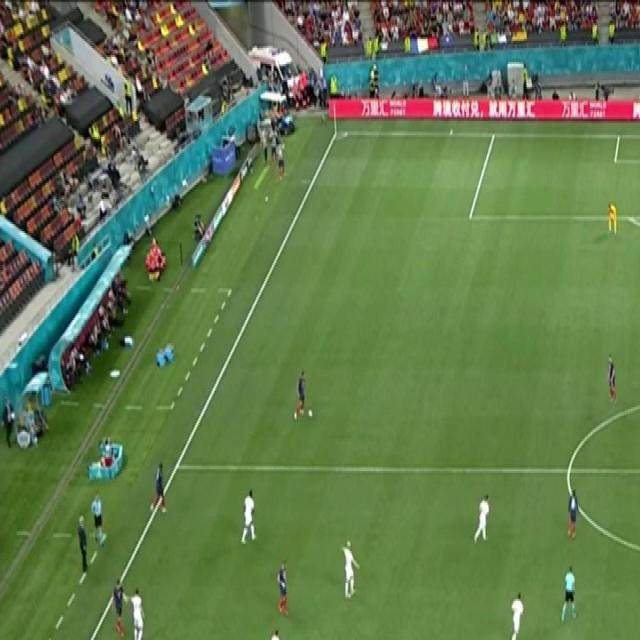ball: (308, 406, 314, 420), (264, 195, 270, 203)
player-white: (339, 538, 361, 600), (559, 564, 580, 624), (107, 576, 126, 640), (148, 458, 168, 518), (126, 585, 146, 640), (472, 490, 492, 544), (240, 487, 258, 547), (90, 490, 108, 548), (276, 557, 290, 619), (508, 588, 524, 640), (565, 489, 581, 541), (292, 367, 306, 424), (605, 353, 619, 407), (606, 198, 618, 238), (269, 625, 283, 640)
